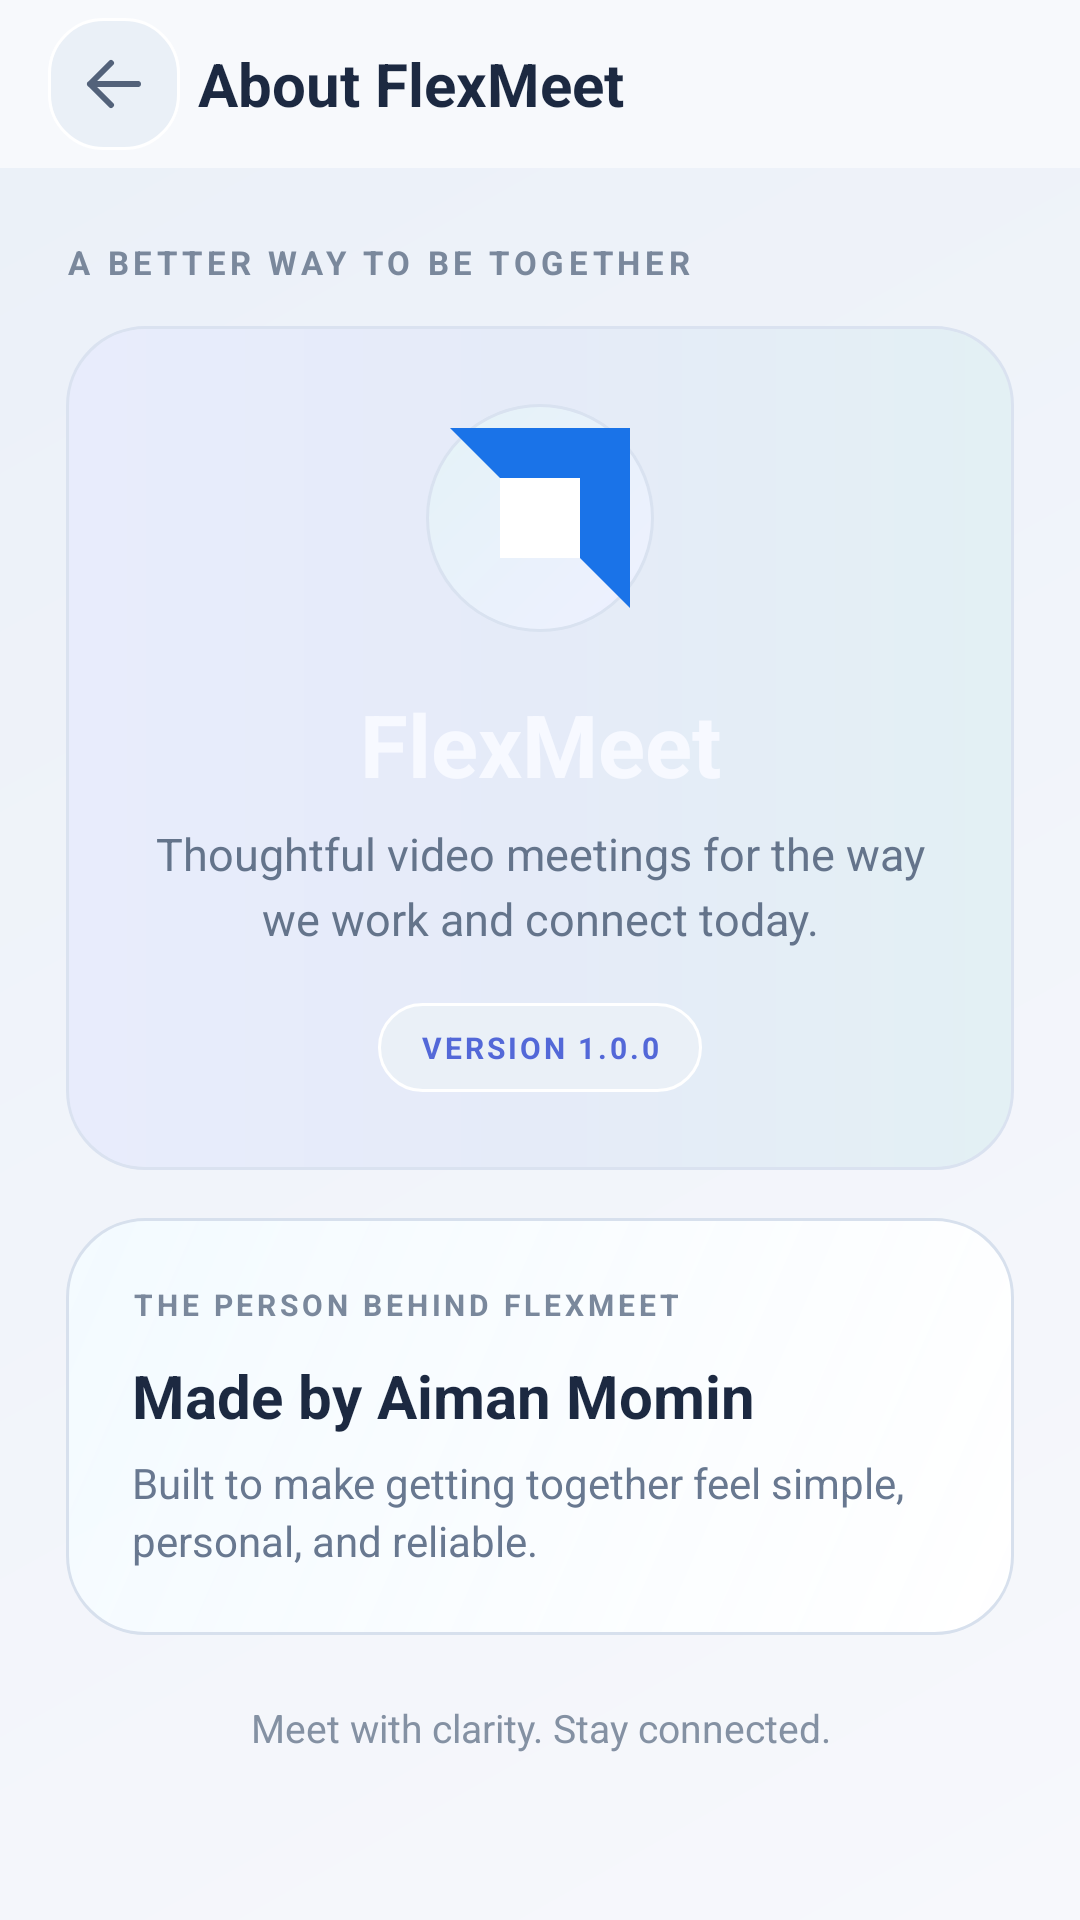

Point at icon controls on the screen. Image size 1080 x 1920, points as point (x, y).
Back: point (114, 84)
